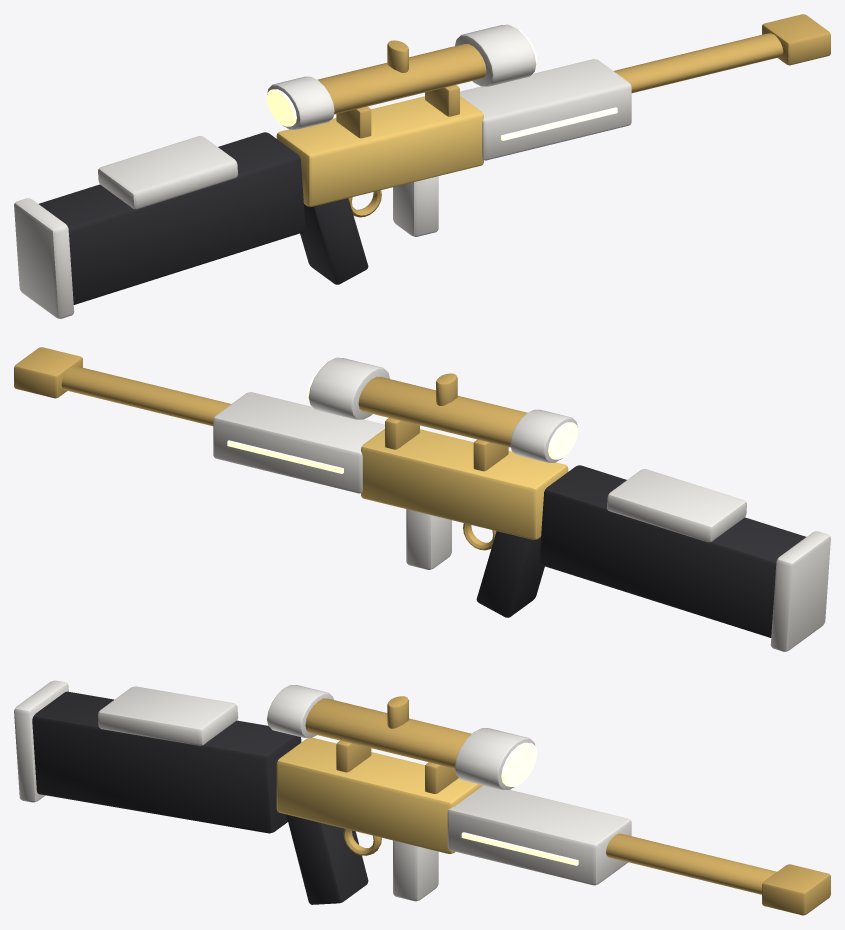
File: SGP_Sniper_Gilded.glb
3 views of the same model, one above another, from view 1: azimuth 30°, elevation 25°; view 2: azimuth 150°, elevation 25°; view 3: azimuth 330°, elevation 25° (orthographic).
Visible parts, largest first — view 1: SGP_Sniper_Gilded; view 2: SGP_Sniper_Gilded; view 3: SGP_Sniper_Gilded.
Boxes of the visible parts, left/top/right/bottom form: SGP_Sniper_Gilded: left=14, top=14, right=830, bottom=318; SGP_Sniper_Gilded: left=14, top=347, right=830, bottom=651; SGP_Sniper_Gilded: left=14, top=680, right=830, bottom=915.
Size of the model in its own units: 0.8882 by 0.2295 by 0.08.
